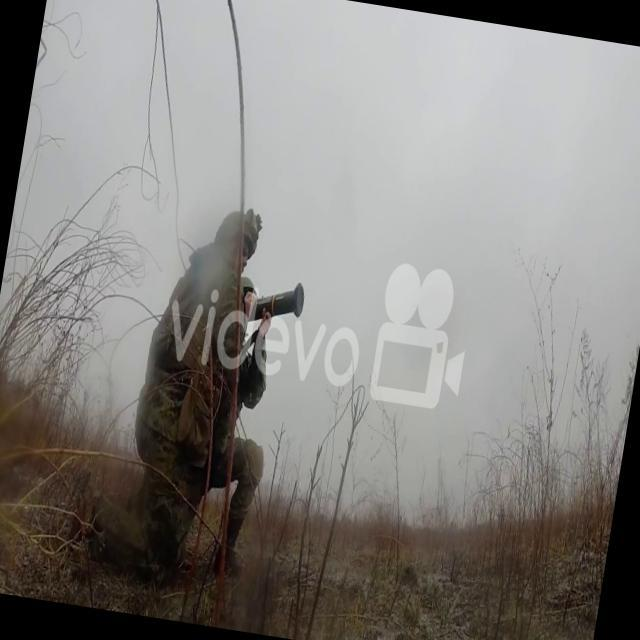rocket: (246, 272, 308, 332)
